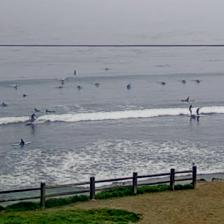surfer: (1, 101, 8, 108), (182, 97, 190, 103), (31, 113, 37, 121), (19, 138, 25, 145), (46, 110, 56, 114), (188, 104, 192, 113), (193, 79, 201, 83), (195, 108, 200, 114), (126, 84, 132, 89), (33, 107, 40, 111), (181, 79, 186, 84), (161, 81, 166, 85), (95, 82, 100, 86), (77, 85, 82, 89), (14, 84, 18, 89), (105, 67, 109, 71), (74, 69, 76, 75), (22, 94, 26, 97), (61, 80, 65, 82), (58, 86, 62, 88)
